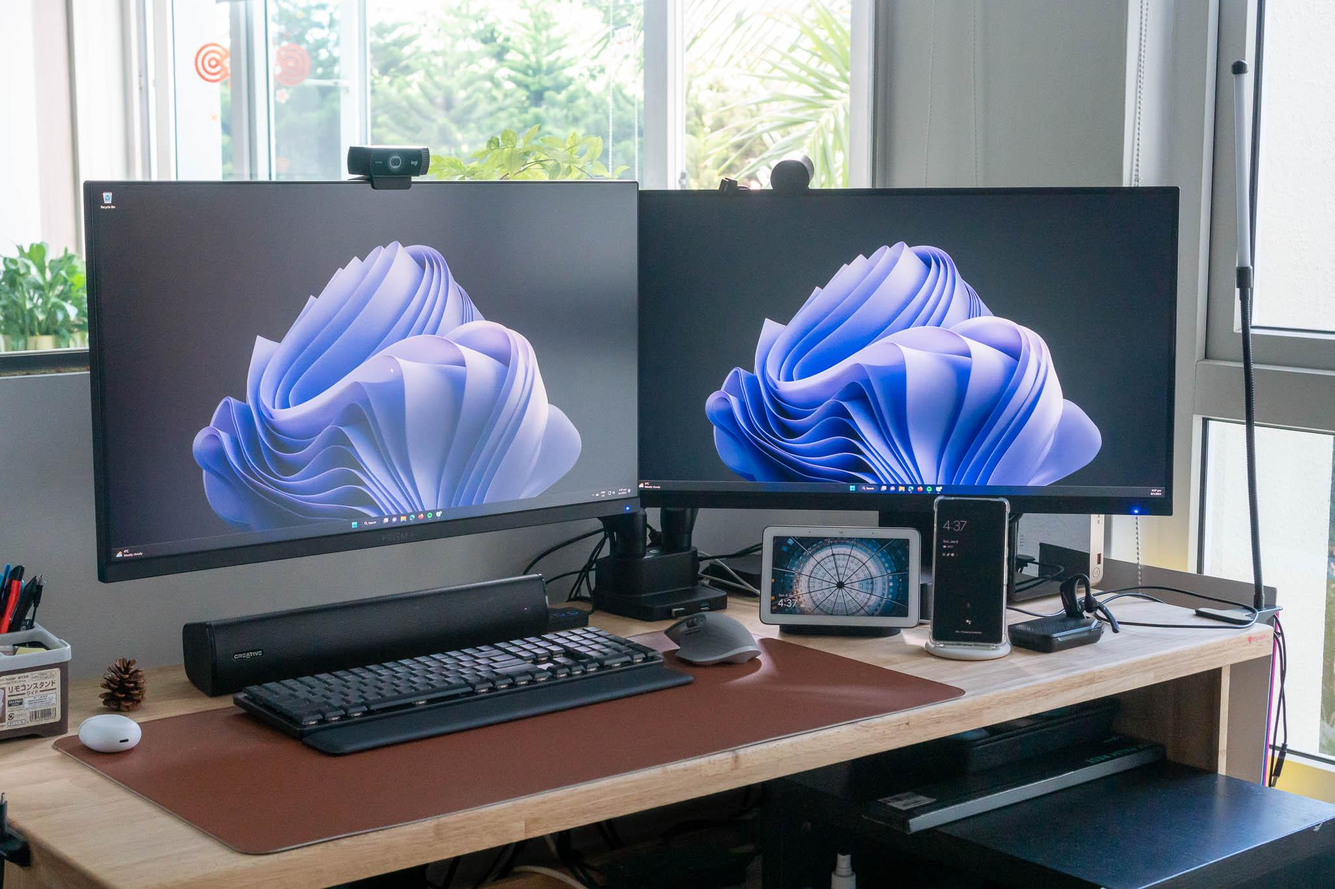keyboard: (228, 605, 698, 764)
monitor: (67, 152, 655, 585), (608, 171, 1201, 529)
mouse: (657, 601, 765, 677)
